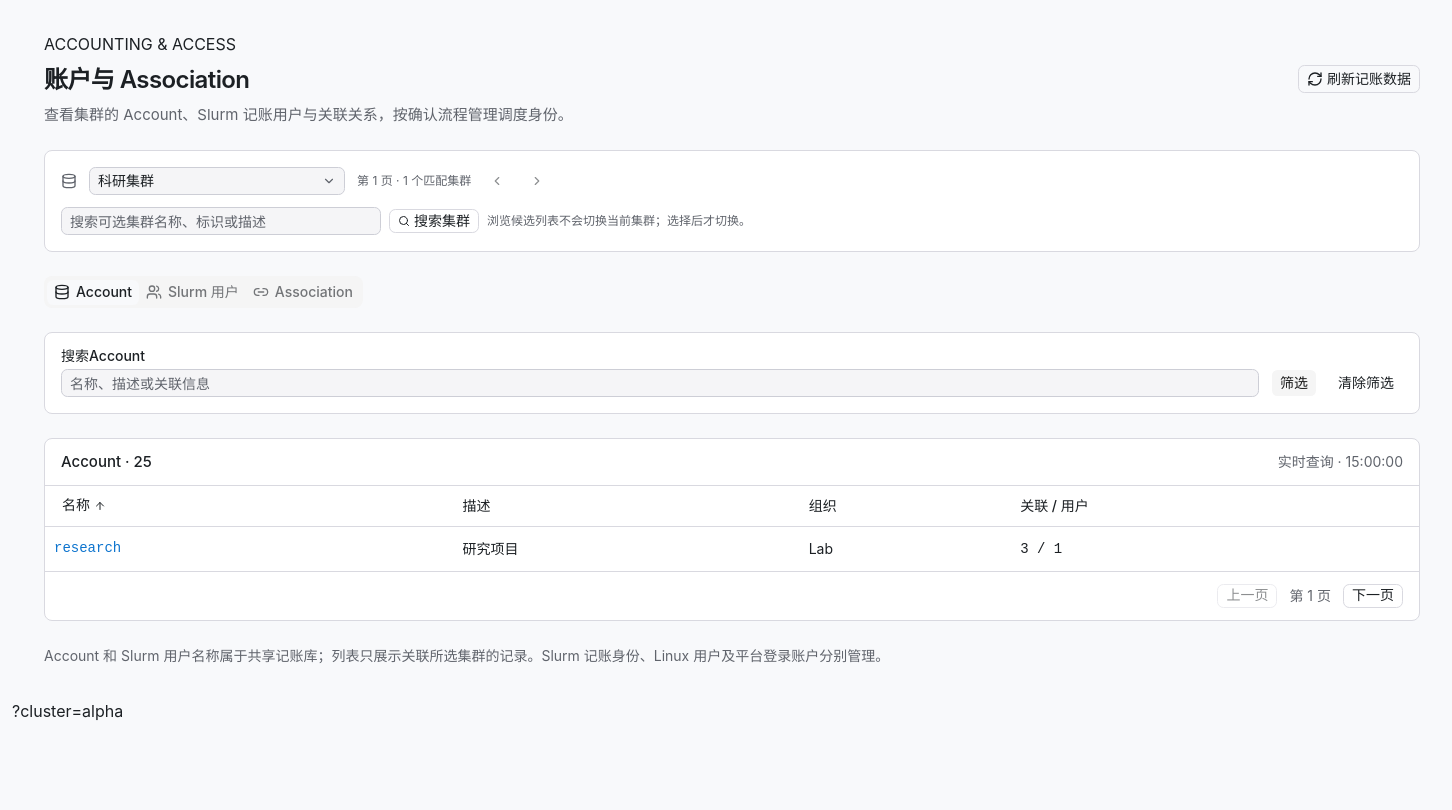
Test: 记账列表筛选、排序、分页和切换类型保留所选集群
The width and height of the screenshot is (1452, 810).
Check: the button "research" is shown, box [53,534,122,562]
Type "research" into the field labelled "搜索Account" at point(660, 383), box [61,369,1259,397]
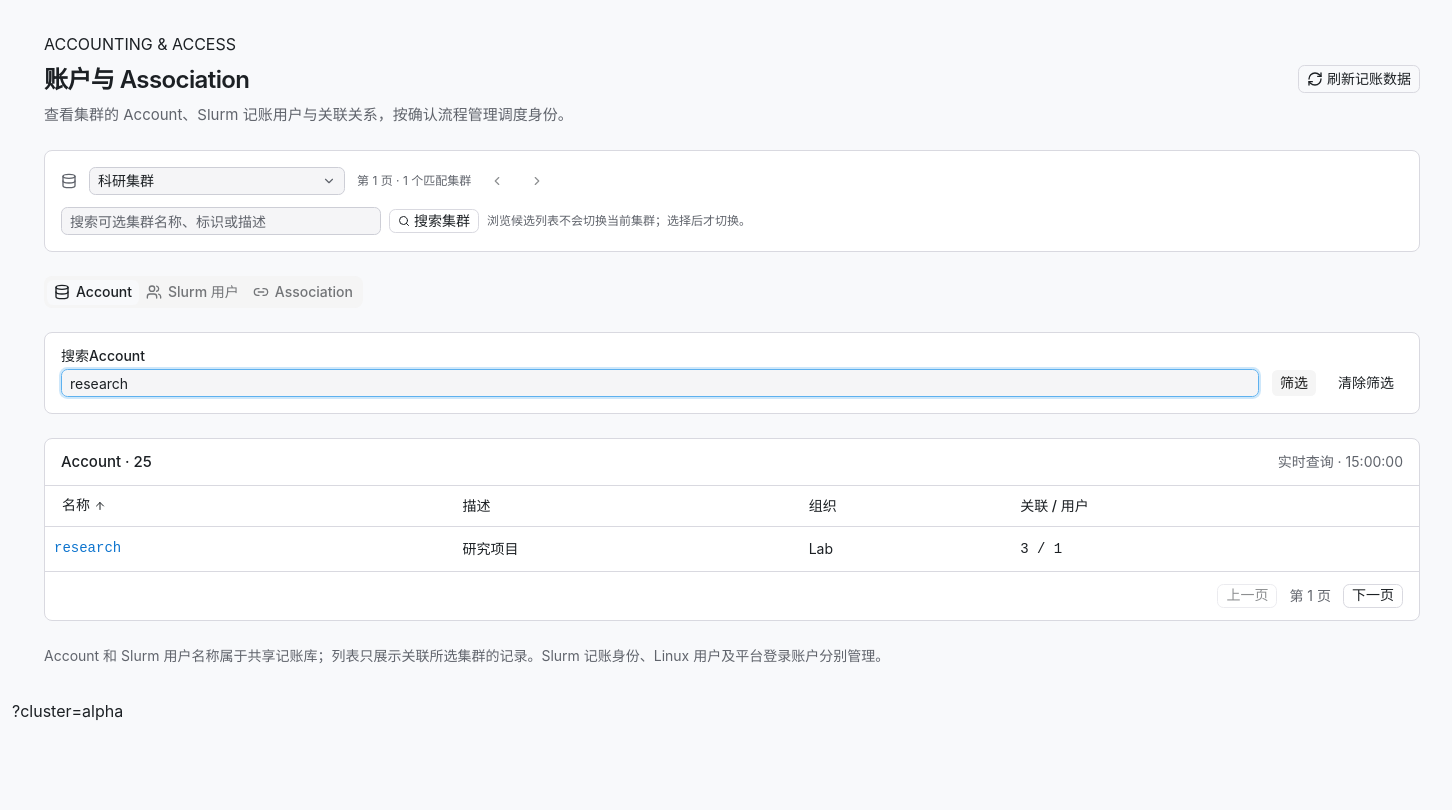
Click the button "筛选" at point(1294, 383), box [1271,369,1317,397]
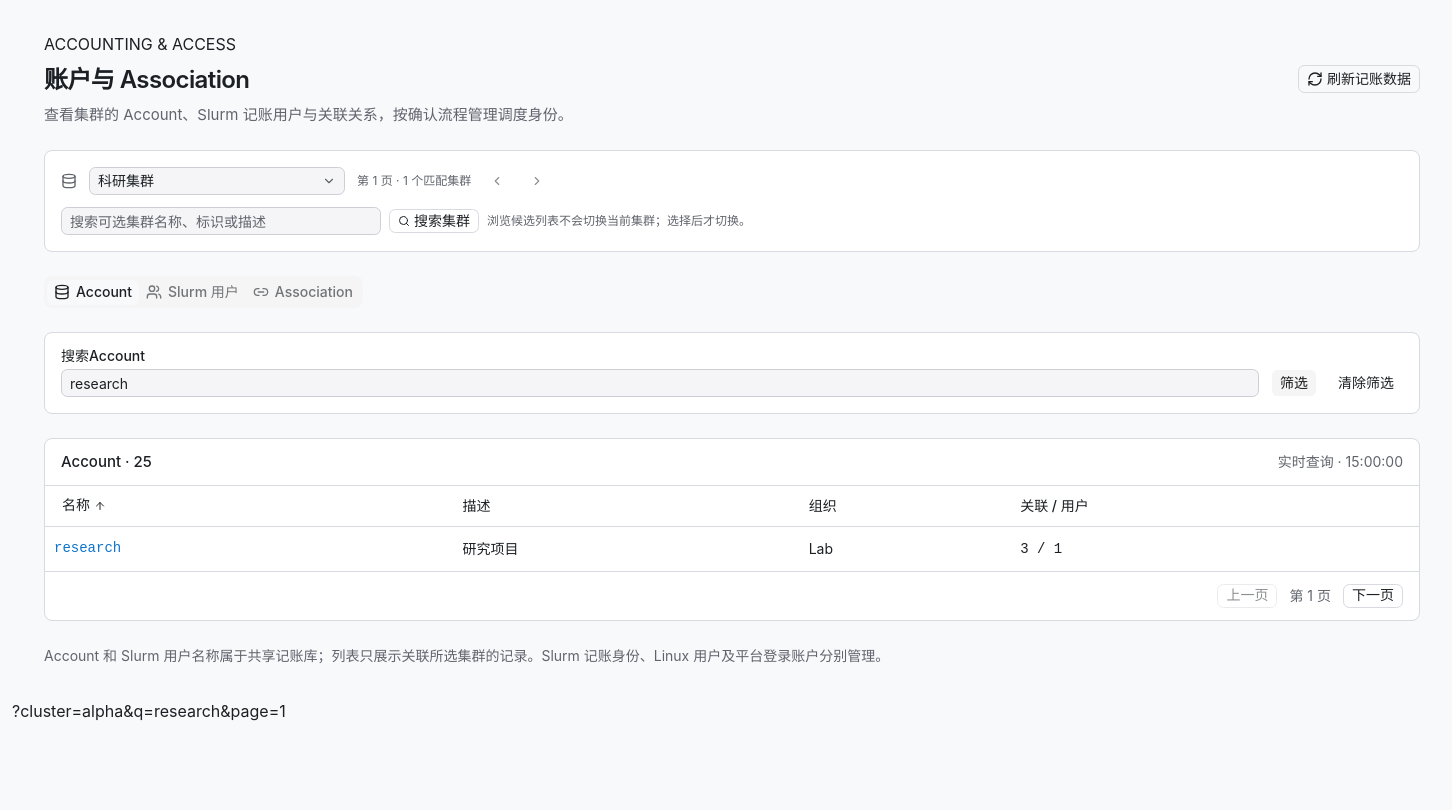
Check: the text named "当前查询" shows "q=research", box [12,701,286,721]
Click the button with aria-label "下一页记账记录" at point(1373, 596), box [1343,584,1403,608]
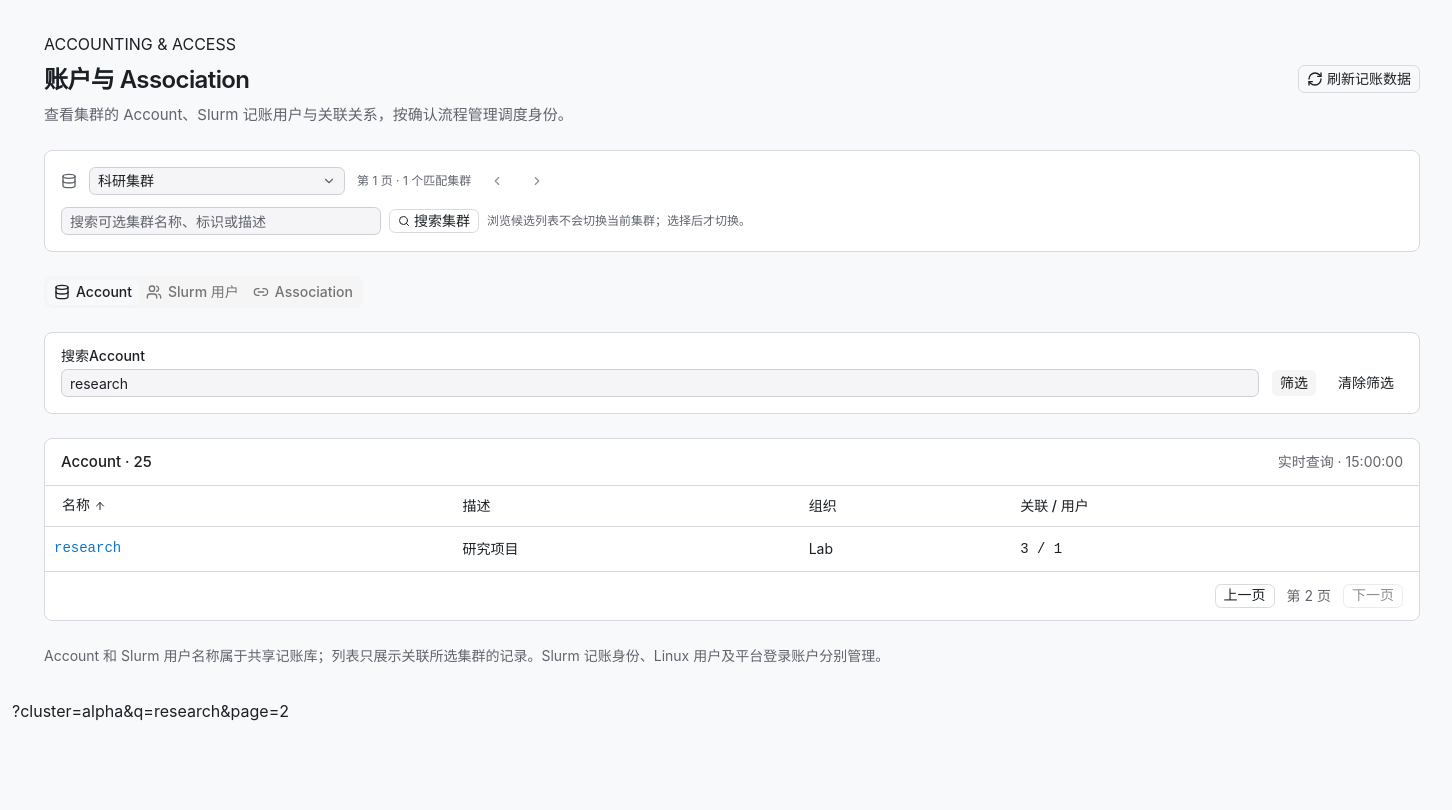
Check: the text named "当前查询" shows "page=2", box [12,701,289,721]
Click the tab "Slurm 用户" at point(192, 292), box [139,280,246,304]
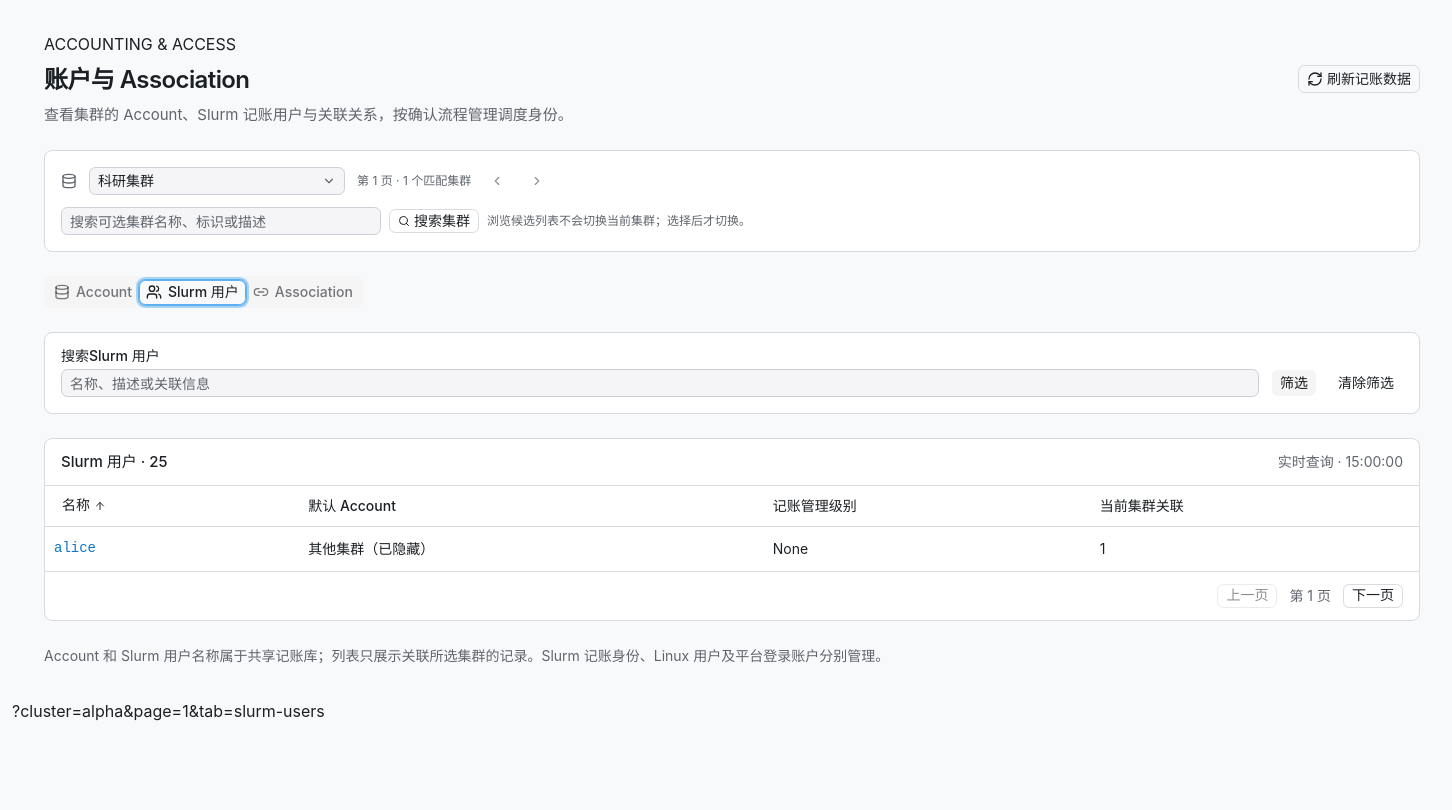
Check: the text named "当前查询" shows "cluster=alpha", box [12,701,325,721]
Check: the text "其他集群（已隐藏）" is shown, box [300,526,765,570]
Click the tab "Association" at point(303, 292), box [246,280,360,304]
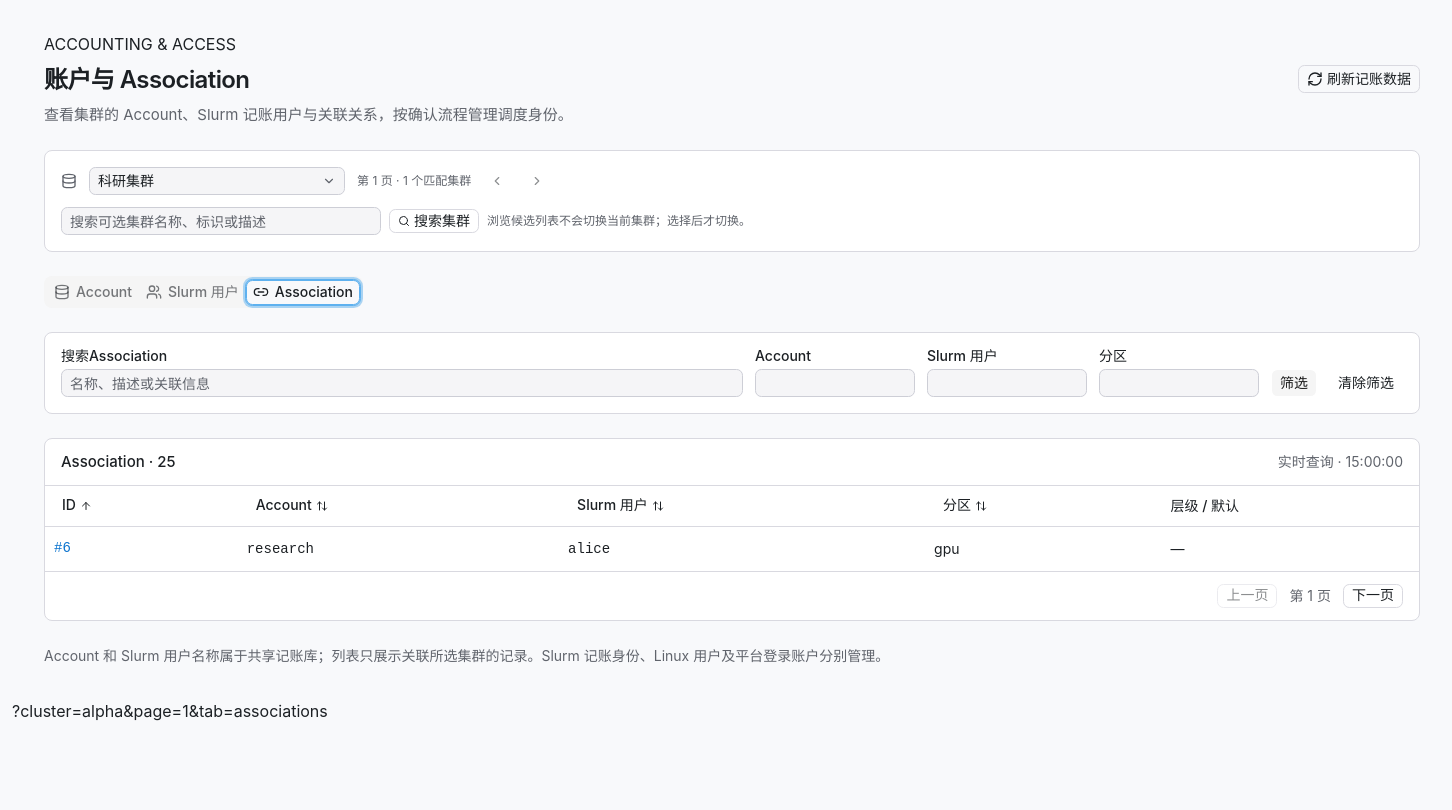
Check: the button "#6" is shown, box [53,534,72,562]
